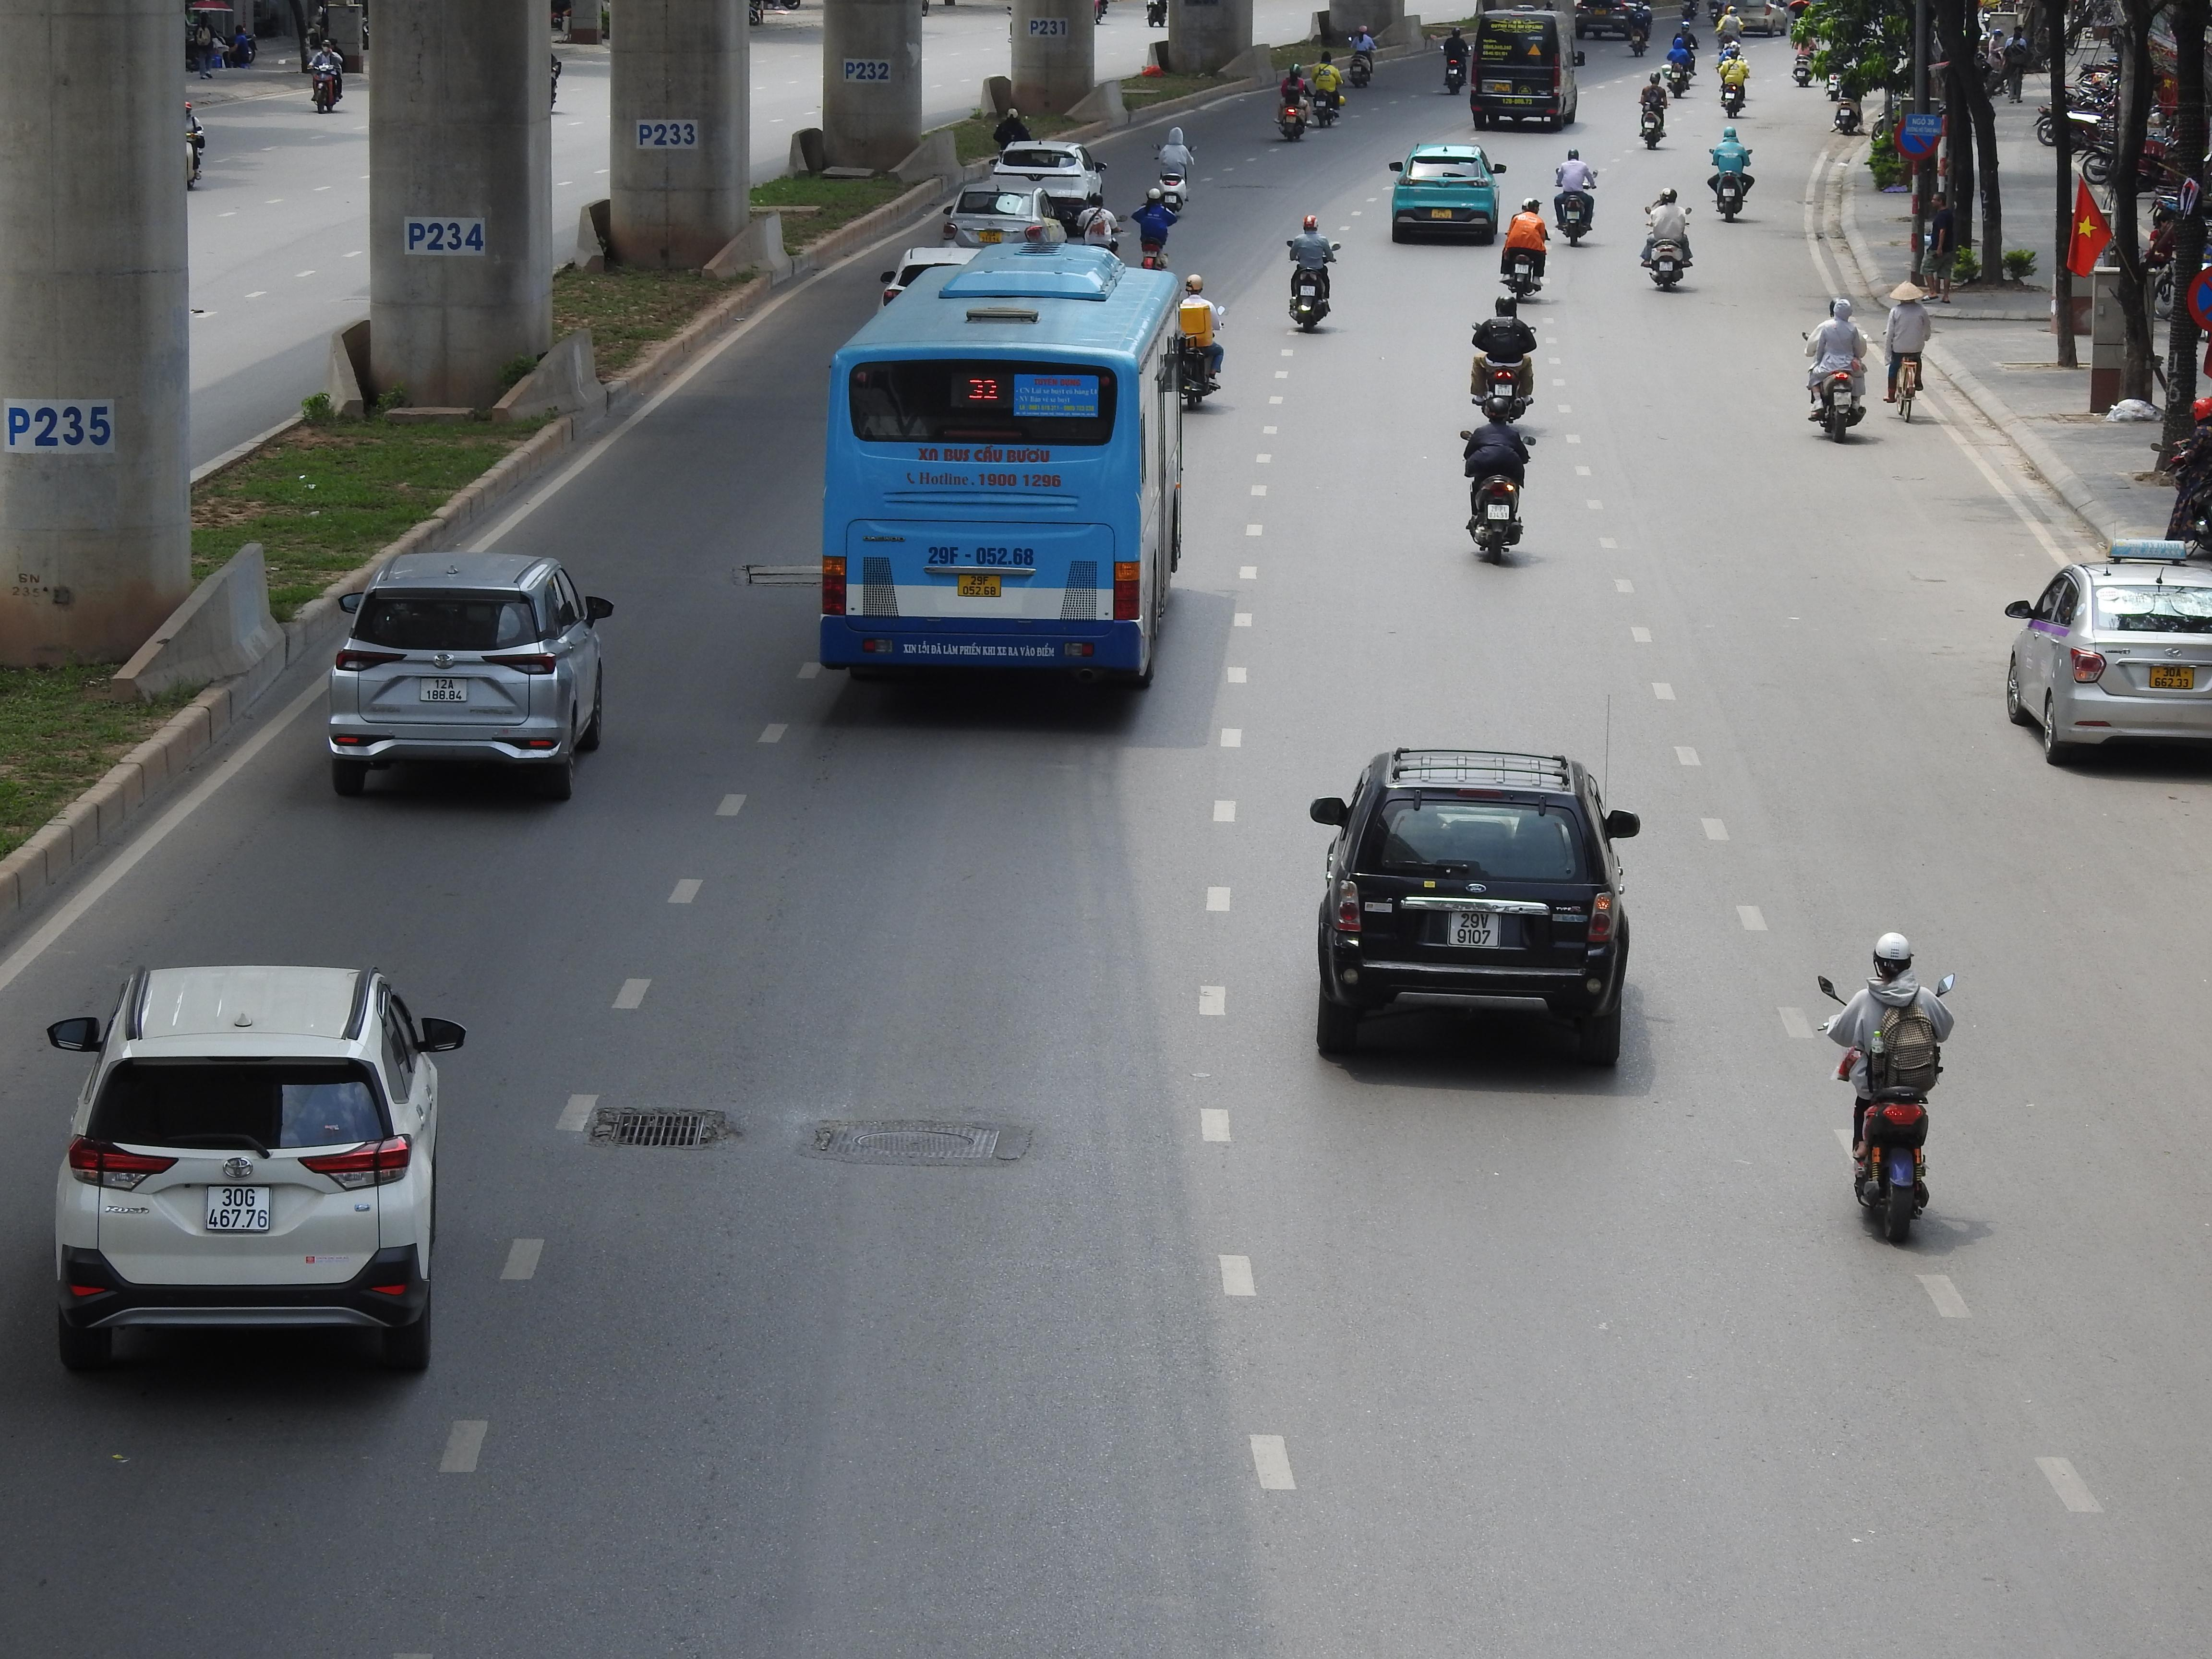BSV: (206, 1187, 272, 1232), (1451, 910, 1498, 946), (2149, 666, 2195, 690), (423, 676, 469, 701), (958, 573, 1001, 598), (1487, 504, 1510, 519), (1834, 392, 1851, 406), (1494, 383, 1512, 396), (1301, 286, 1315, 296)
bus: (819, 242, 1190, 690)
car: (45, 962, 467, 1378), (1308, 746, 1641, 1068), (324, 551, 613, 803), (2003, 544, 2212, 770), (1388, 143, 1507, 244)
motorbike: (1824, 931, 1952, 1246), (1461, 399, 1531, 565), (1804, 298, 1869, 443), (1468, 291, 1538, 423), (2165, 399, 2212, 559), (1172, 272, 1226, 411), (1881, 282, 1932, 422), (1285, 213, 1339, 333), (1641, 186, 1695, 293), (1496, 197, 1548, 305), (1707, 124, 1756, 223), (1552, 146, 1597, 246), (1151, 122, 1197, 221), (1132, 186, 1177, 272), (1306, 49, 1348, 131), (307, 30, 347, 113), (1829, 54, 1867, 136), (1275, 59, 1312, 143), (1663, 23, 1700, 99), (1716, 38, 1750, 117), (1637, 68, 1670, 150), (1345, 17, 1379, 89), (1440, 23, 1468, 94), (1623, 2, 1653, 58)
